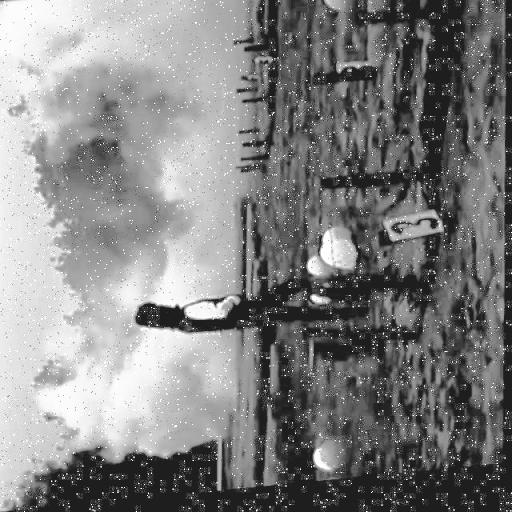balloon: (311, 444, 351, 481), (319, 244, 361, 277), (314, 232, 356, 253), (307, 257, 334, 284), (322, 0, 359, 18), (308, 284, 332, 310)
